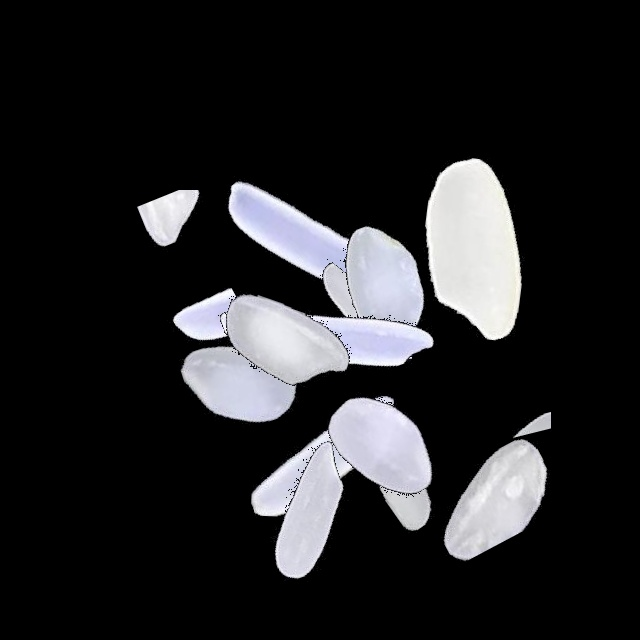Broken: (392, 338, 556, 588), (270, 235, 412, 485), (64, 190, 314, 299), (142, 208, 249, 458), (453, 264, 551, 514)
Full: (198, 329, 448, 579), (186, 118, 436, 368), (268, 339, 518, 589), (180, 388, 430, 638), (116, 256, 366, 506), (348, 121, 598, 371), (260, 156, 510, 406), (202, 209, 452, 459), (161, 220, 411, 470), (257, 320, 507, 570)
